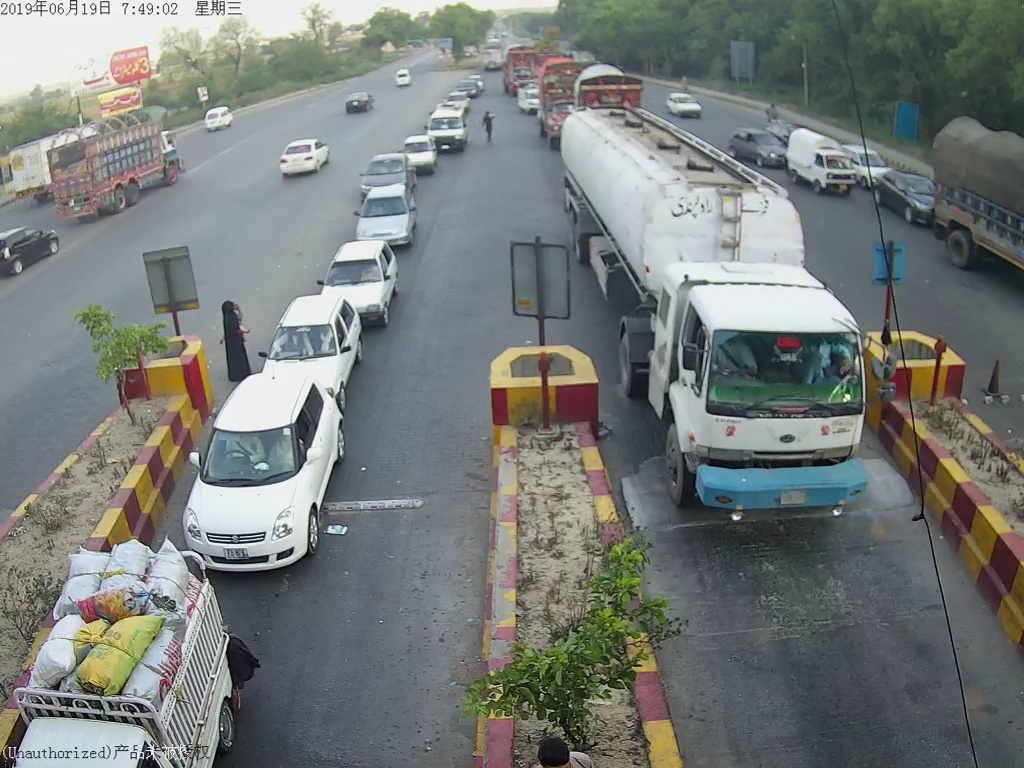Cat-1: (183, 374, 346, 566), (258, 297, 362, 399), (317, 239, 394, 324), (351, 188, 418, 247), (355, 151, 416, 198)
Cat-5: (566, 110, 879, 517)
